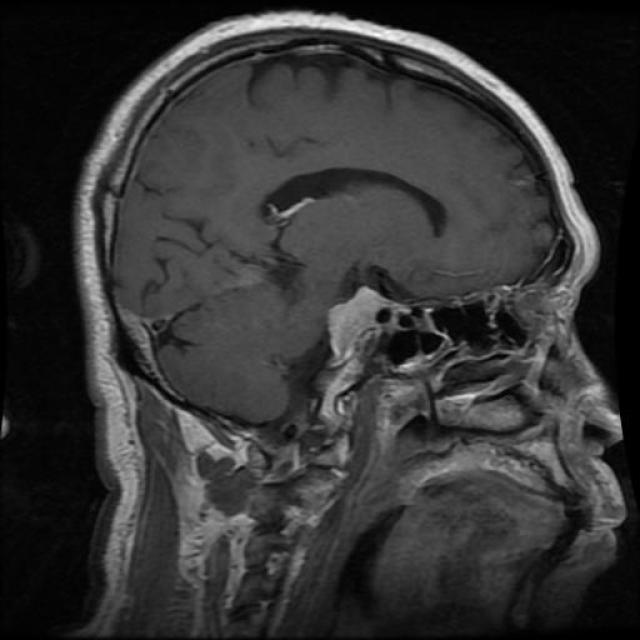meningioma: (329, 286, 404, 366)
